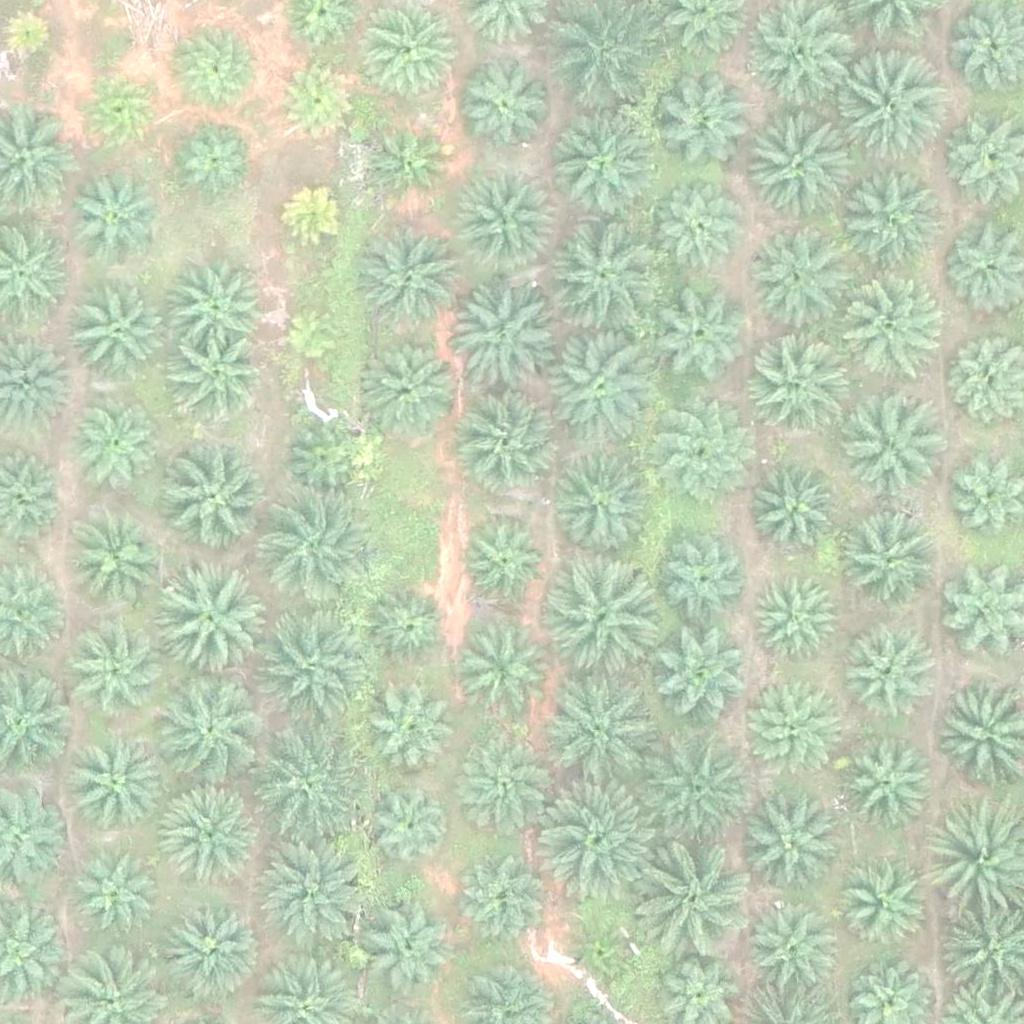Kelapa_Sawit: (637, 839, 750, 953), (546, 334, 659, 448), (353, 218, 466, 332), (260, 611, 373, 725), (157, 439, 270, 553), (828, 271, 941, 384), (549, 216, 662, 329), (546, 553, 659, 666), (451, 284, 564, 397), (150, 567, 263, 680), (548, 3, 661, 116), (837, 53, 949, 167), (743, 121, 855, 235), (640, 732, 752, 845), (545, 674, 657, 787), (542, 785, 654, 898), (263, 490, 375, 603), (251, 730, 363, 843), (259, 842, 371, 955), (153, 674, 265, 787), (748, 686, 848, 787), (744, 896, 844, 997), (646, 627, 746, 728), (552, 454, 652, 555), (452, 171, 552, 272), (465, 394, 565, 495), (366, 335, 466, 436), (166, 255, 266, 356), (164, 900, 264, 1001), (60, 168, 160, 269), (67, 284, 167, 385), (67, 508, 167, 609), (69, 625, 169, 726), (65, 736, 165, 837), (844, 162, 944, 263), (654, 70, 754, 171), (451, 62, 551, 163), (840, 400, 940, 500), (842, 516, 942, 616), (754, 336, 854, 436), (744, 805, 844, 905), (648, 176, 748, 276), (163, 783, 263, 883), (556, 113, 656, 213), (749, 234, 848, 335), (70, 406, 158, 495), (844, 739, 932, 827), (837, 863, 925, 951), (749, 462, 837, 550), (750, 575, 838, 663), (655, 419, 743, 507), (654, 289, 742, 377), (460, 740, 548, 828), (369, 691, 457, 779), (365, 785, 453, 873), (283, 420, 371, 508), (175, 335, 263, 423), (174, 23, 262, 111), (174, 115, 262, 203), (272, 55, 360, 143), (461, 521, 548, 610), (77, 851, 164, 940), (846, 627, 933, 715), (662, 534, 749, 622), (465, 636, 552, 724), (458, 856, 545, 944), (364, 588, 451, 676), (365, 902, 452, 990), (75, 65, 162, 153), (365, 115, 452, 203), (277, 177, 352, 253), (573, 924, 636, 987), (282, 306, 344, 369)
